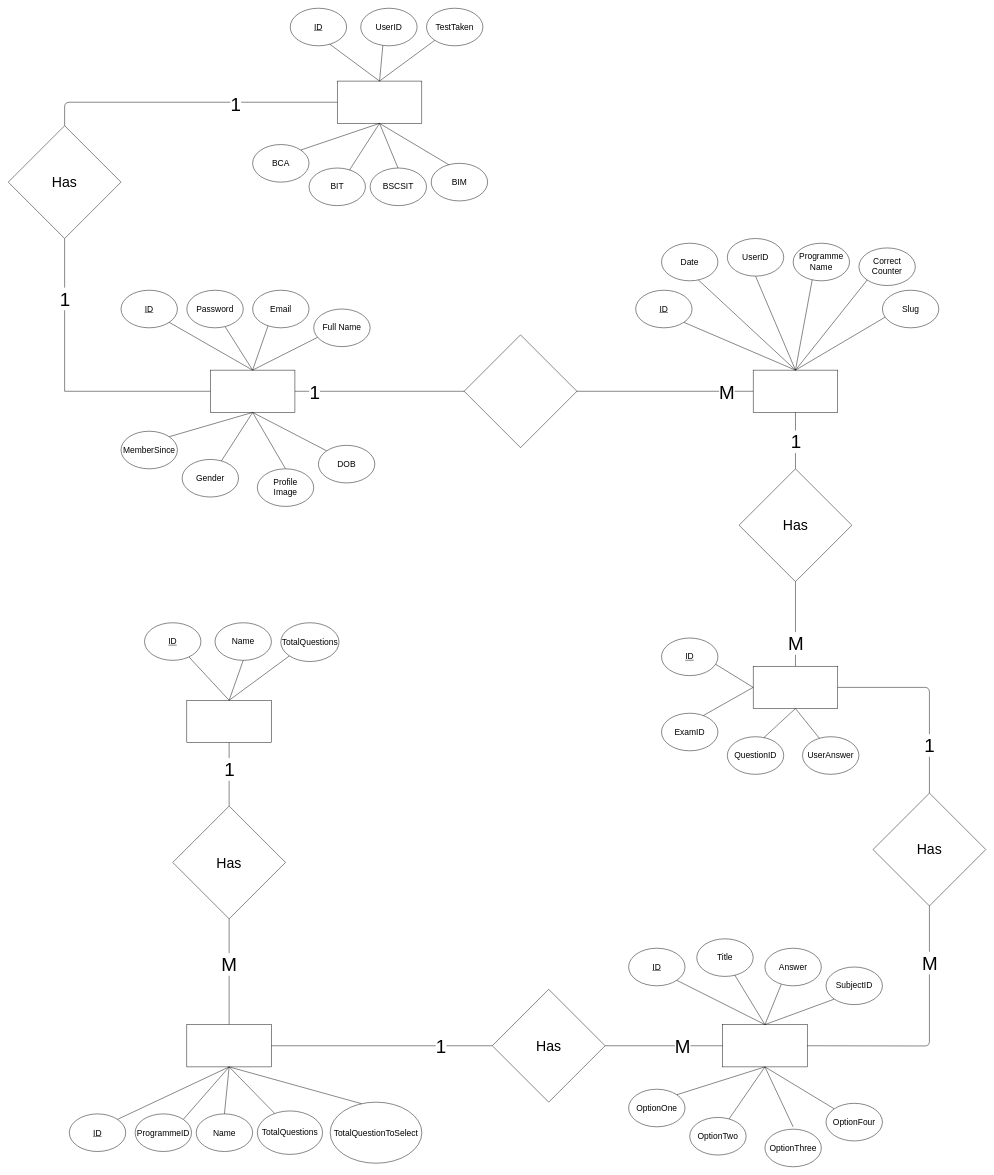
Some shapes in this 994 by 1175 pixel diagram are drawn without their labels. Here are the shapes that lost their labels. From the top down, the box of each, then its label:
(337, 81, 422, 123): ResultExtraDetails
(210, 370, 295, 412): Users
(464, 334, 577, 448): Takes
(753, 370, 838, 412): Exams
(753, 666, 838, 709): ResultDetails
(186, 700, 271, 743): Programme
(186, 1024, 271, 1067): Subject
(722, 1024, 807, 1067): Questions
